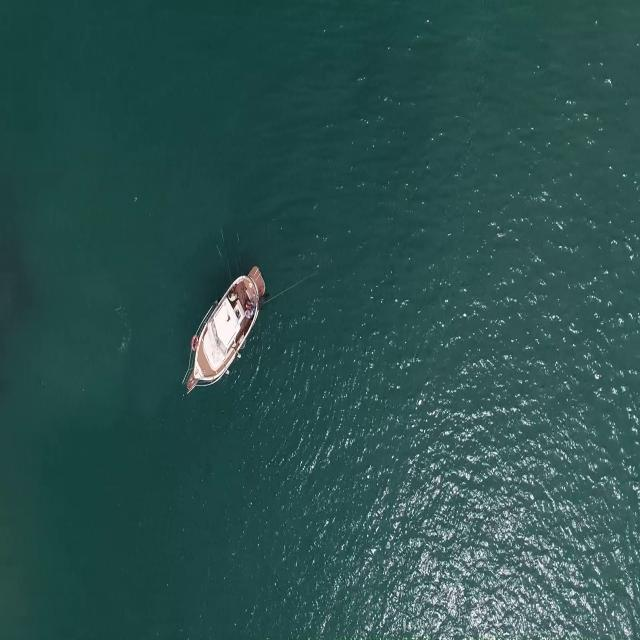boat: (180, 264, 266, 389)
life_buoy: (190, 329, 200, 352)
person: (243, 305, 254, 321), (226, 290, 240, 302)
